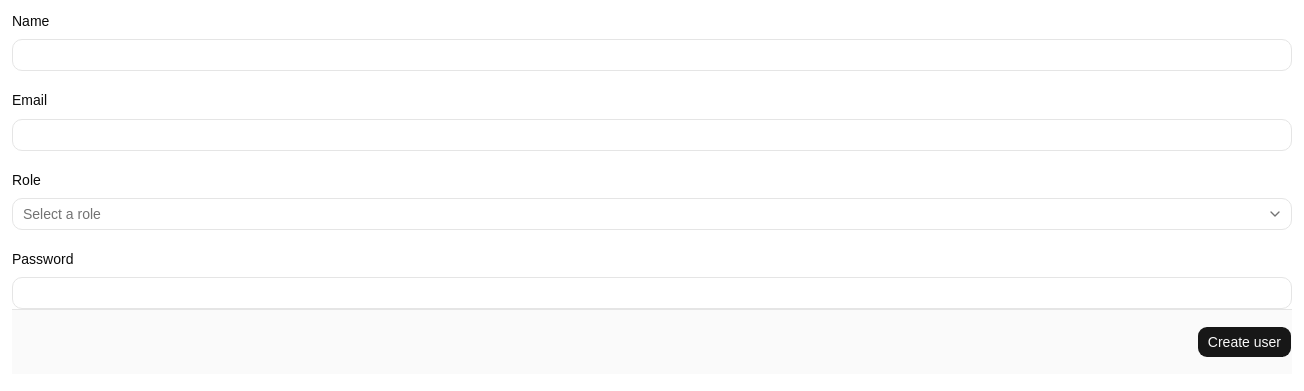
Test: UserForm › create mode › disables the submit button and shows a submitting label while the request is in flight
Type "Jane Doe" into the field labelled "Name" at coordinates (652, 55), box x1=12 y1=39 x2=1292 y2=71
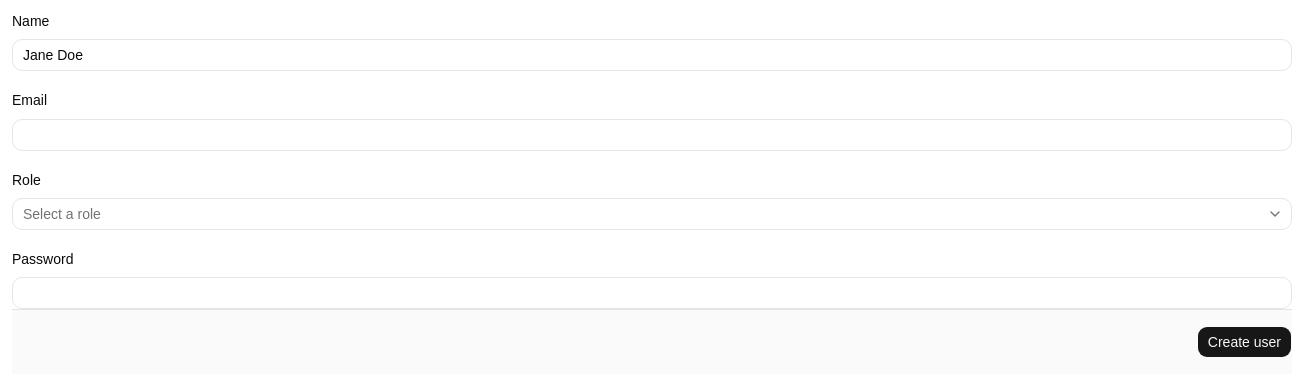
Type "jane@example.com" into the field labelled "Email" at coordinates (652, 134), box x1=12 y1=118 x2=1292 y2=150
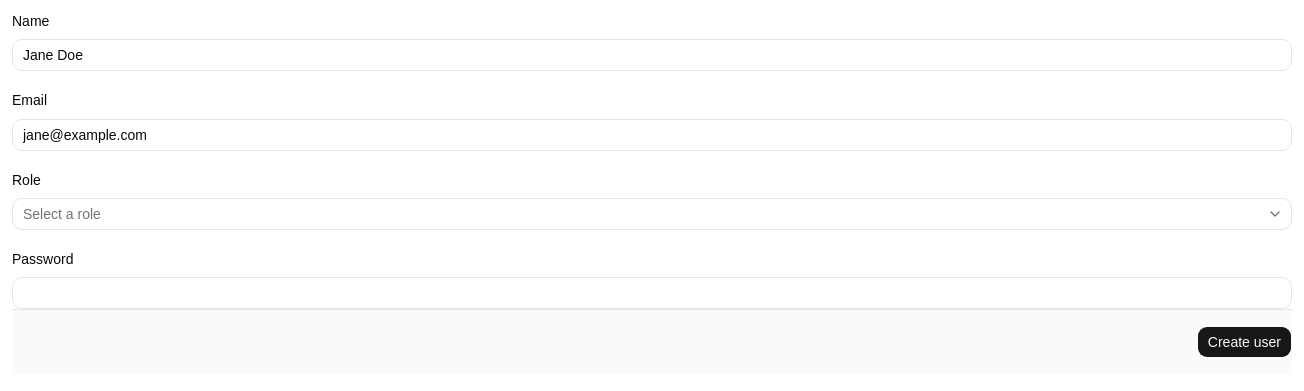
Click the dropdown labelled "role" at coordinates (62, 214), box x1=12 y1=198 x2=1292 y2=230
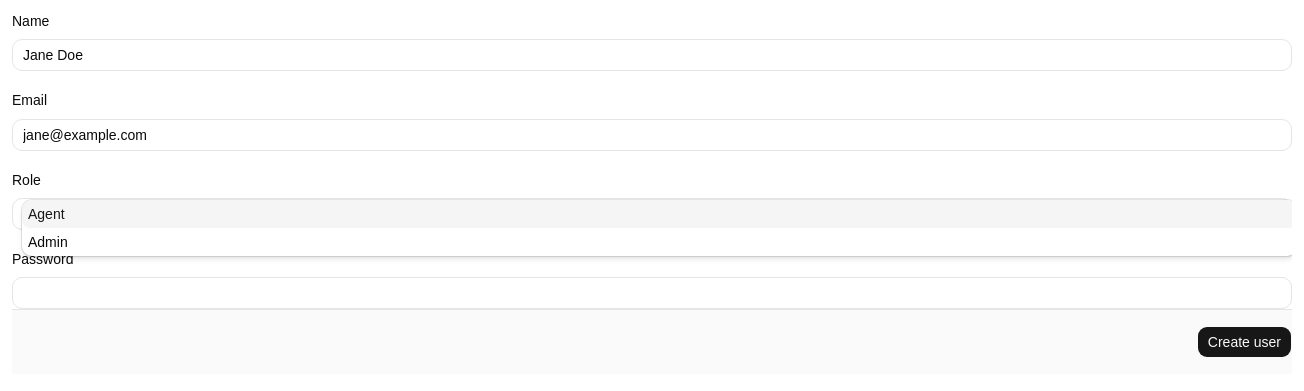
Click the option "Agent" at coordinates (46, 214), box x1=22 y1=200 x2=1292 y2=228
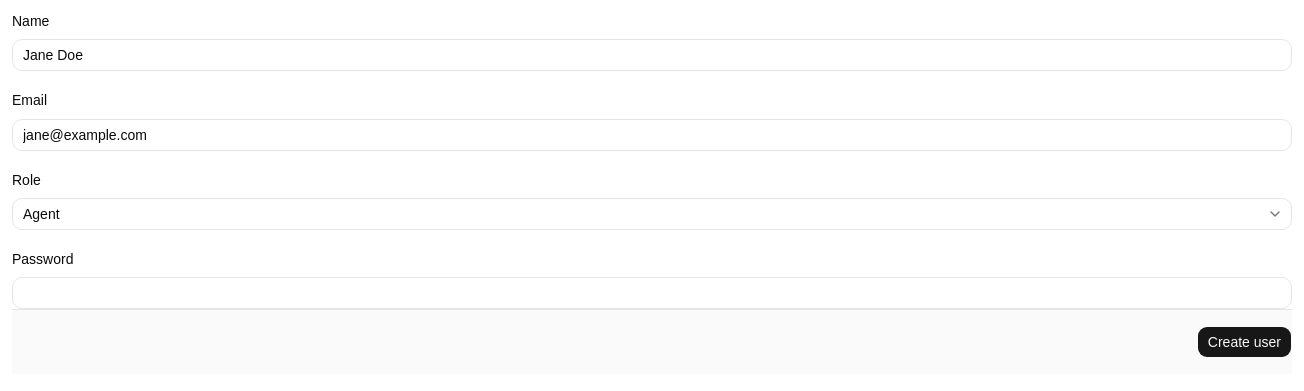
Type "secret" into the password field labelled "Password" at coordinates (652, 293), box x1=12 y1=277 x2=1292 y2=309
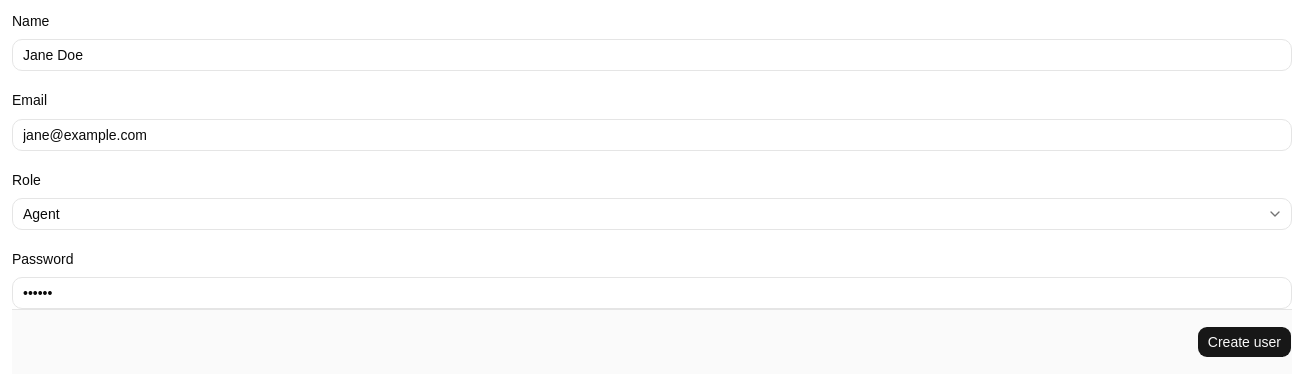
Submit the form
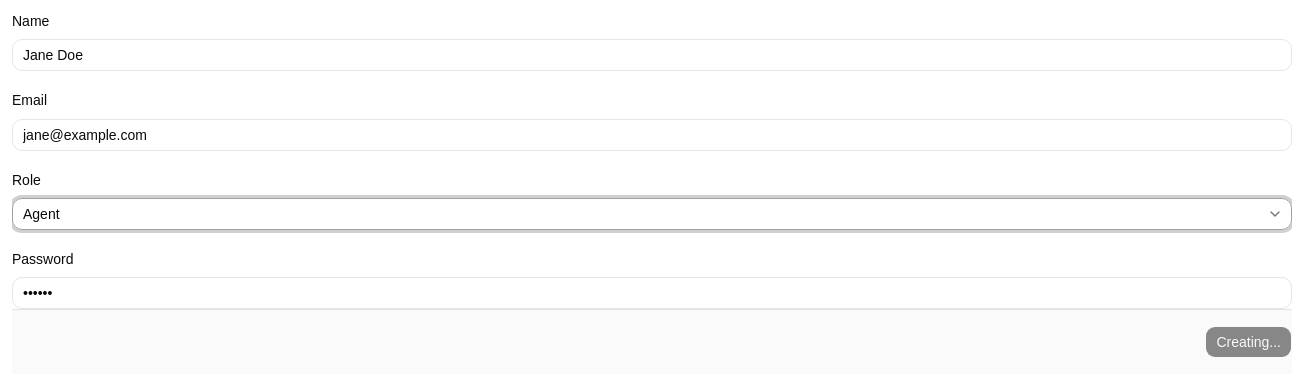
Result: the button "Creating..." is disabled at x1=1205 y1=326 x2=1292 y2=358
